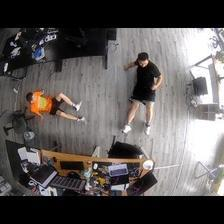fall: (120, 51, 163, 134), (25, 89, 91, 123)
